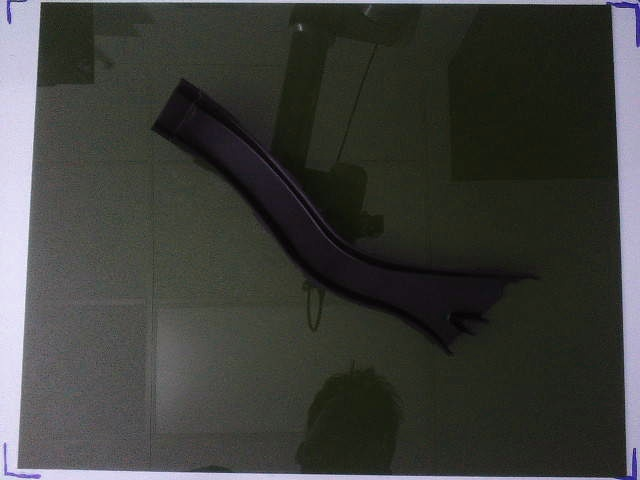887_B-Under: (152, 78, 539, 357)
